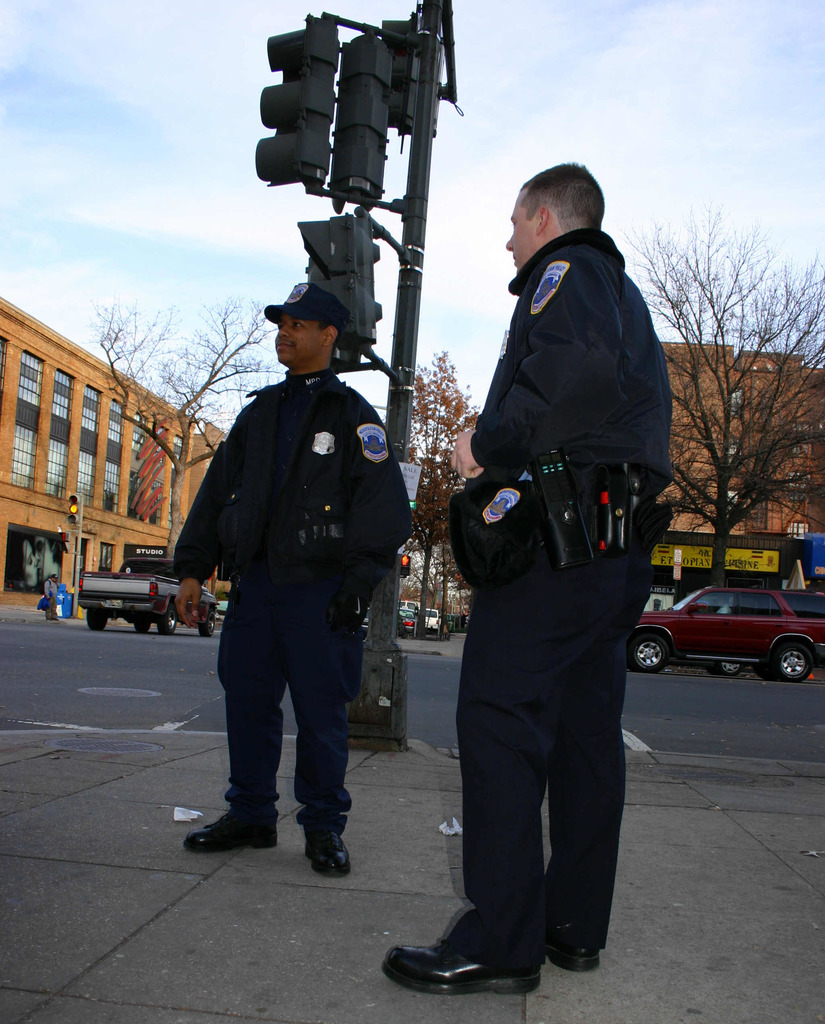Car: (637, 582, 823, 690), (394, 600, 451, 635)
